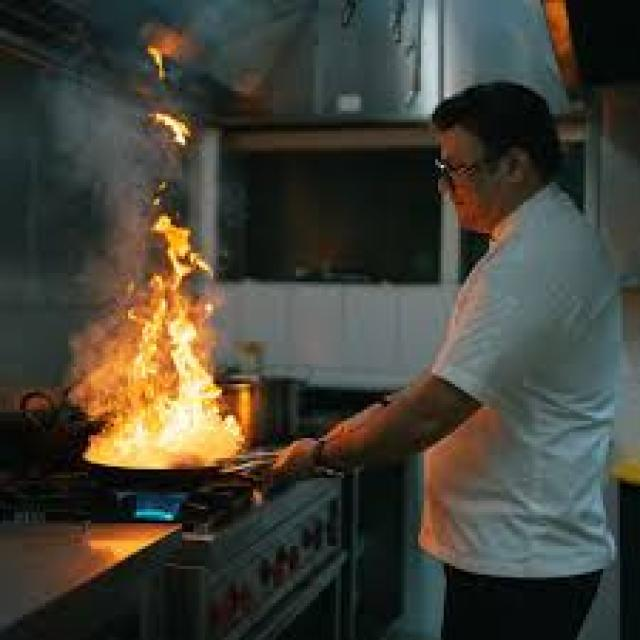fire: (82, 347, 245, 469), (128, 273, 215, 347), (150, 213, 211, 277), (132, 492, 189, 520)
